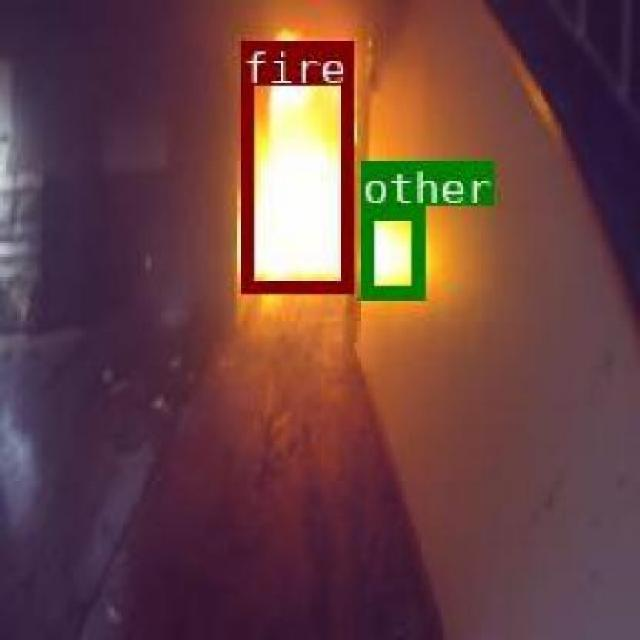Fire: (237, 39, 351, 290)
